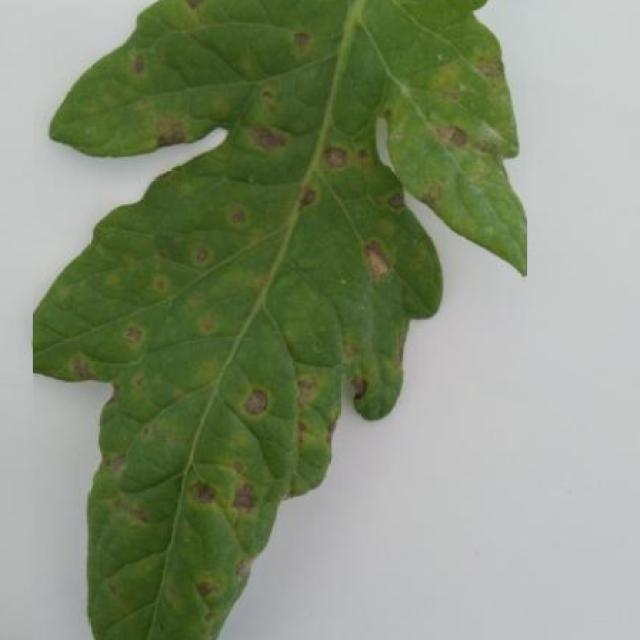Early Blight: (33, 0, 527, 640)
